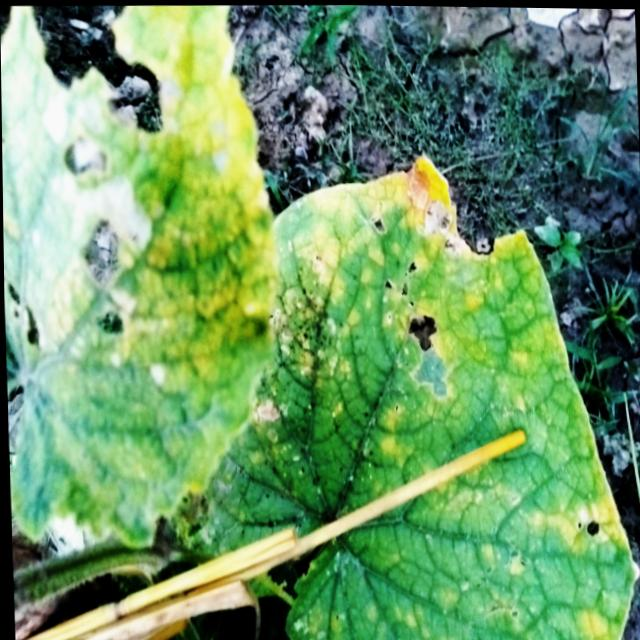Anthracnose: (61, 129, 139, 340), (402, 306, 460, 403)
